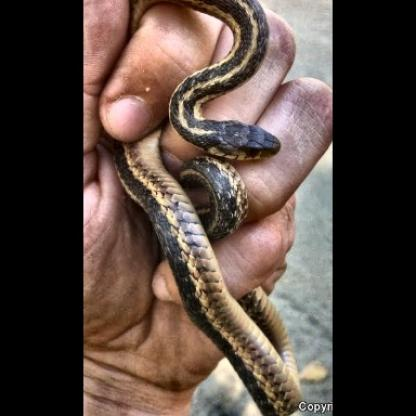Snake: (114, 2, 306, 414), (156, 74, 290, 166)
